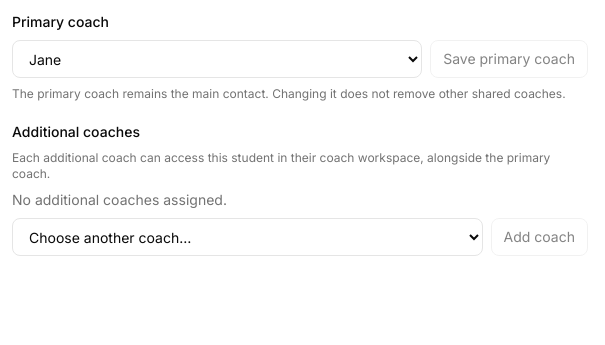
Test case: shared coach controls › adds Tiffany without replacing Jane, then allows removing only Tiffany
This screenshot has width=605, height=345.
Select "Tiffany" in the dropdown named "Add an additional coach". click: (247, 237)
box: [12,218,483,256]
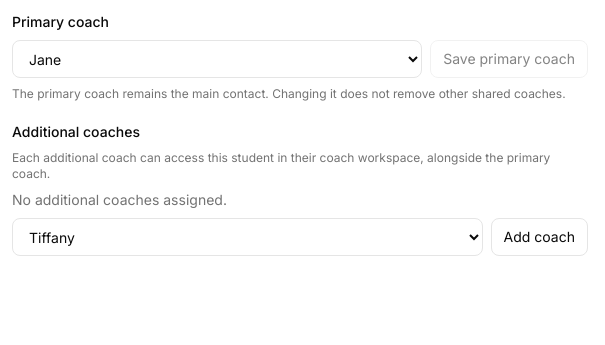
Click the button "Add coach". click: (539, 237)
box: [491,218,588,256]
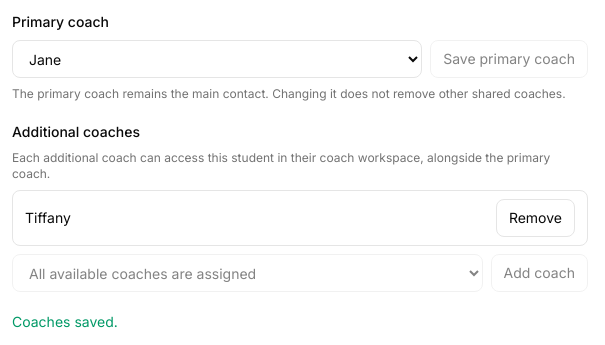
Expected: the dropdown labelled "Primary coach" shows "Jane", [12,40,422,78]
Now the button with aria-label "Remove Tiffany" is shown
Click the button with aria-label "Remove Tiffany". click: (535, 218)
box: [496,199,575,237]
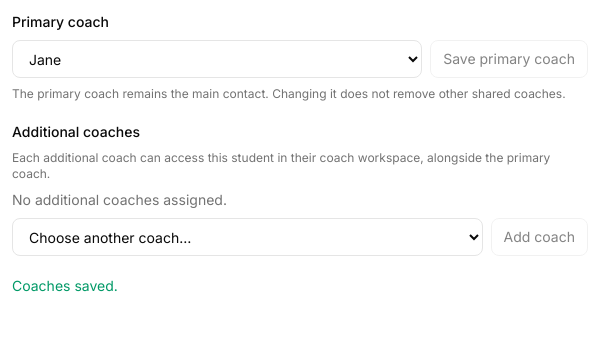
Expected: the dropdown labelled "Primary coach" shows "Jane", [12,40,422,78]
Now the text "No additional coaches assigned." is shown, box [12,191,227,208]
